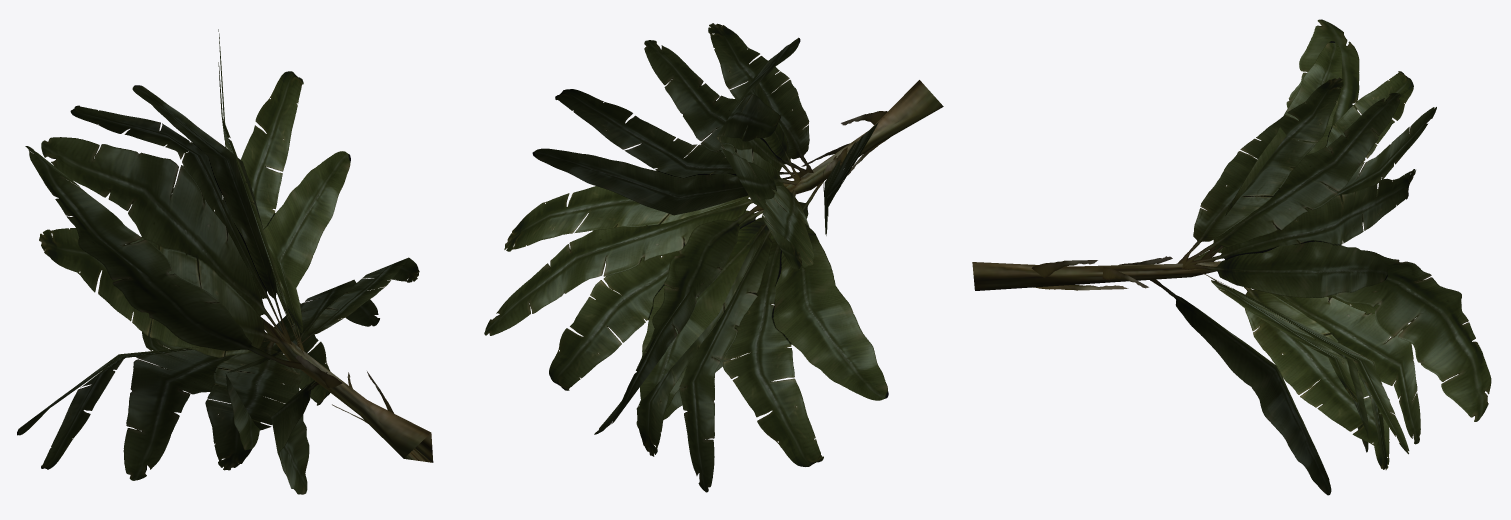
File: MEP_Palm_01_S.fbx
3 renders of one model, left to right at view 1: azimuth 30°, elevation 25°; view 2: azimuth 150°, elevation 25°; view 3: azimuth 270°, elevation 25°, orthographic. The views are drawn at different scales.
Visible parts, largest first — view 1: MEP_Palm_01_S; view 2: MEP_Palm_01_S; view 3: MEP_Palm_01_S.
Boxes of the visible parts, left/top/right/bottom form: MEP_Palm_01_S: left=17, top=29, right=433, bottom=494; MEP_Palm_01_S: left=484, top=23, right=943, bottom=492; MEP_Palm_01_S: left=972, top=19, right=1491, bottom=495.
Size of the model in its own units: 2.4 by 2.55 by 3.06.
